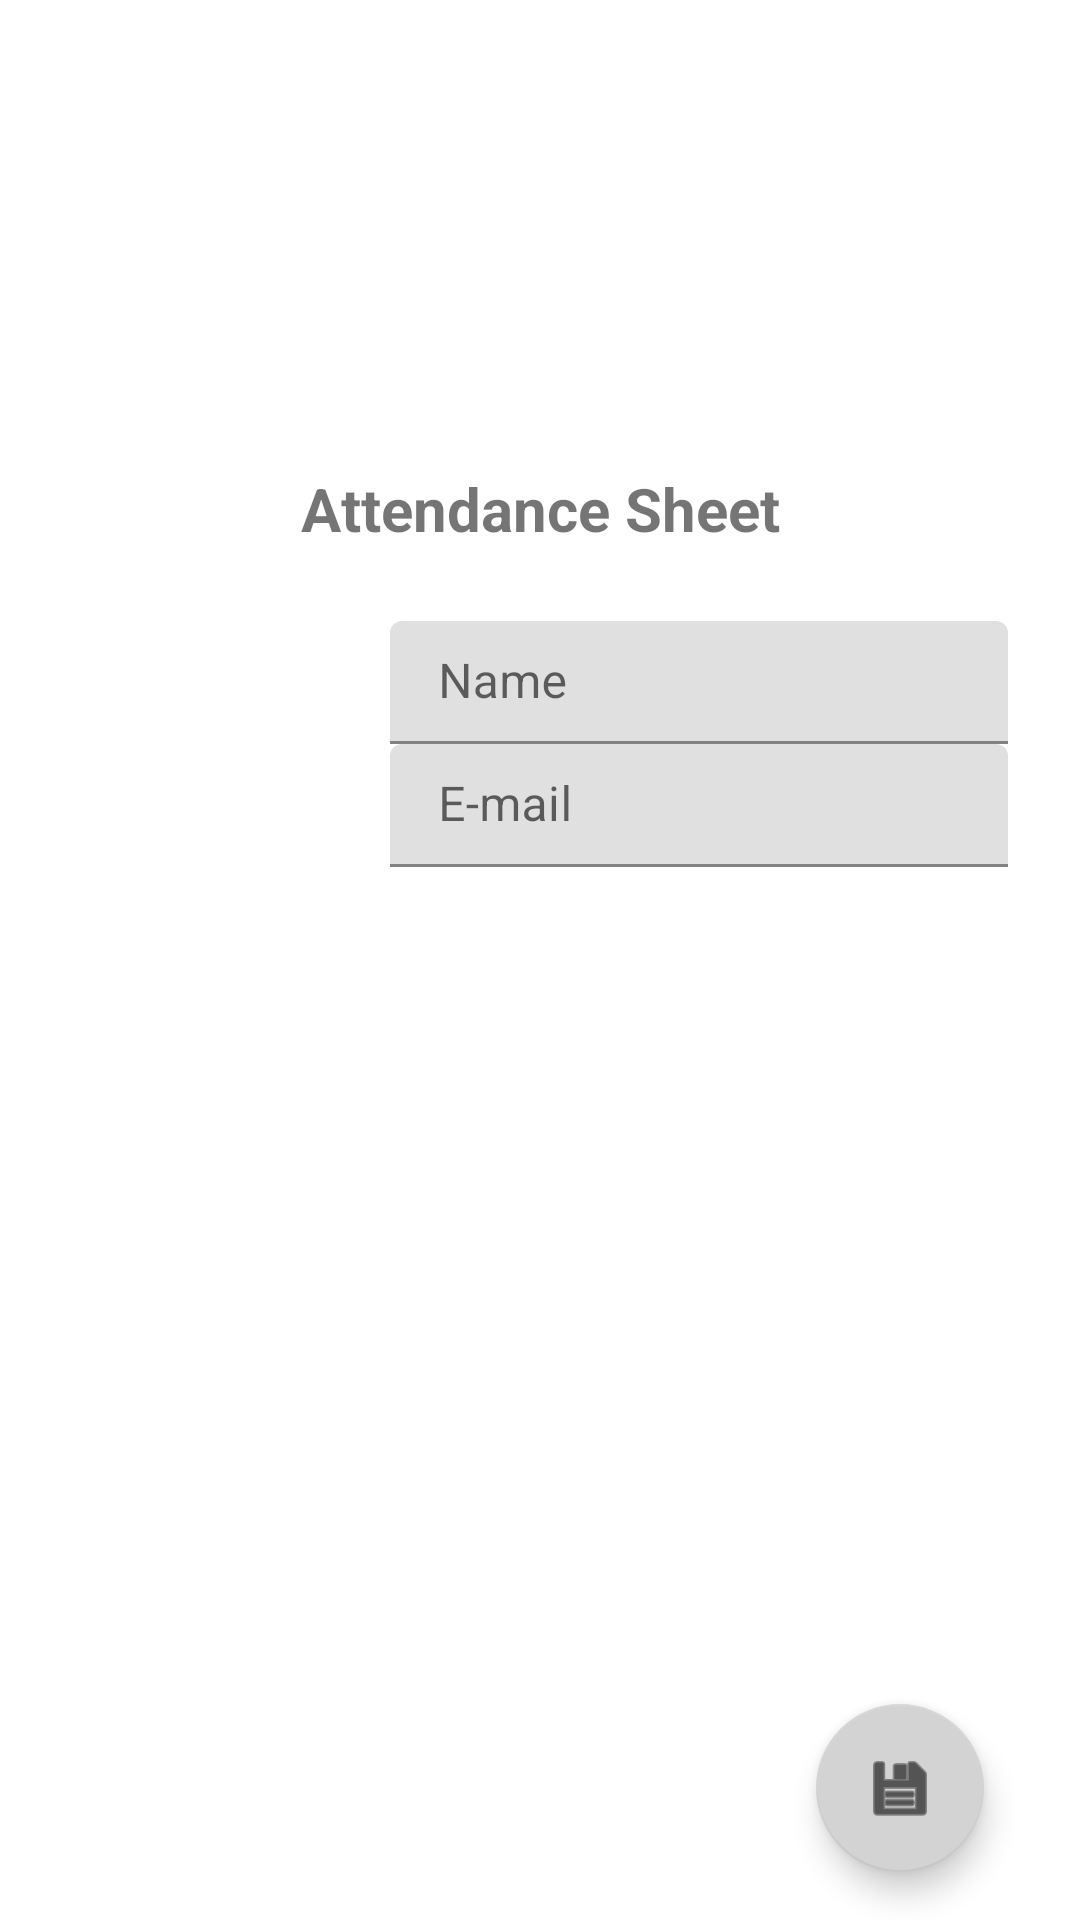

Named icons in this screenshot (1080x1920) and their centers, point (x, y):
save: point (900, 1788)
